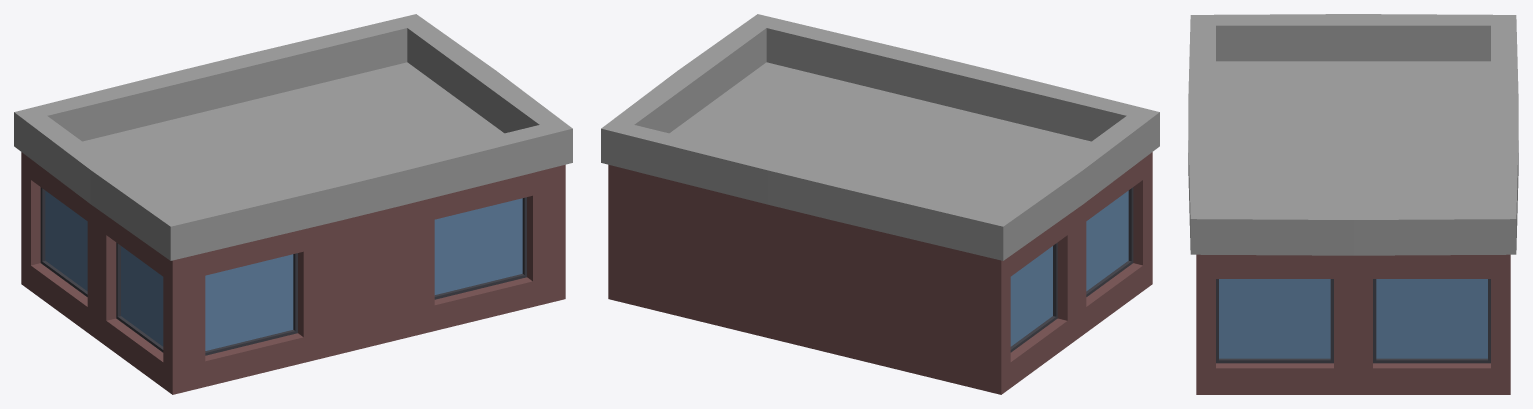
The model's file is cb_Building_1_A.glb.
The picture shows the model from 3 angles, left to right: view 1: azimuth 30°, elevation 25°; view 2: azimuth 150°, elevation 25°; view 3: azimuth 270°, elevation 25°; orthographic projection. The views are drawn at different scales.
Visible parts, largest first — view 1: Building 1 A; view 2: Building 1 A; view 3: Building 1 A.
Boxes of the visible parts, x1,y1,x2,y2 form: Building 1 A: [14, 14, 572, 394]; Building 1 A: [601, 14, 1159, 394]; Building 1 A: [1188, 14, 1518, 394].
Size of the model in its own units: 12.4 by 5 by 8.4.
1 material, 1 textured.
